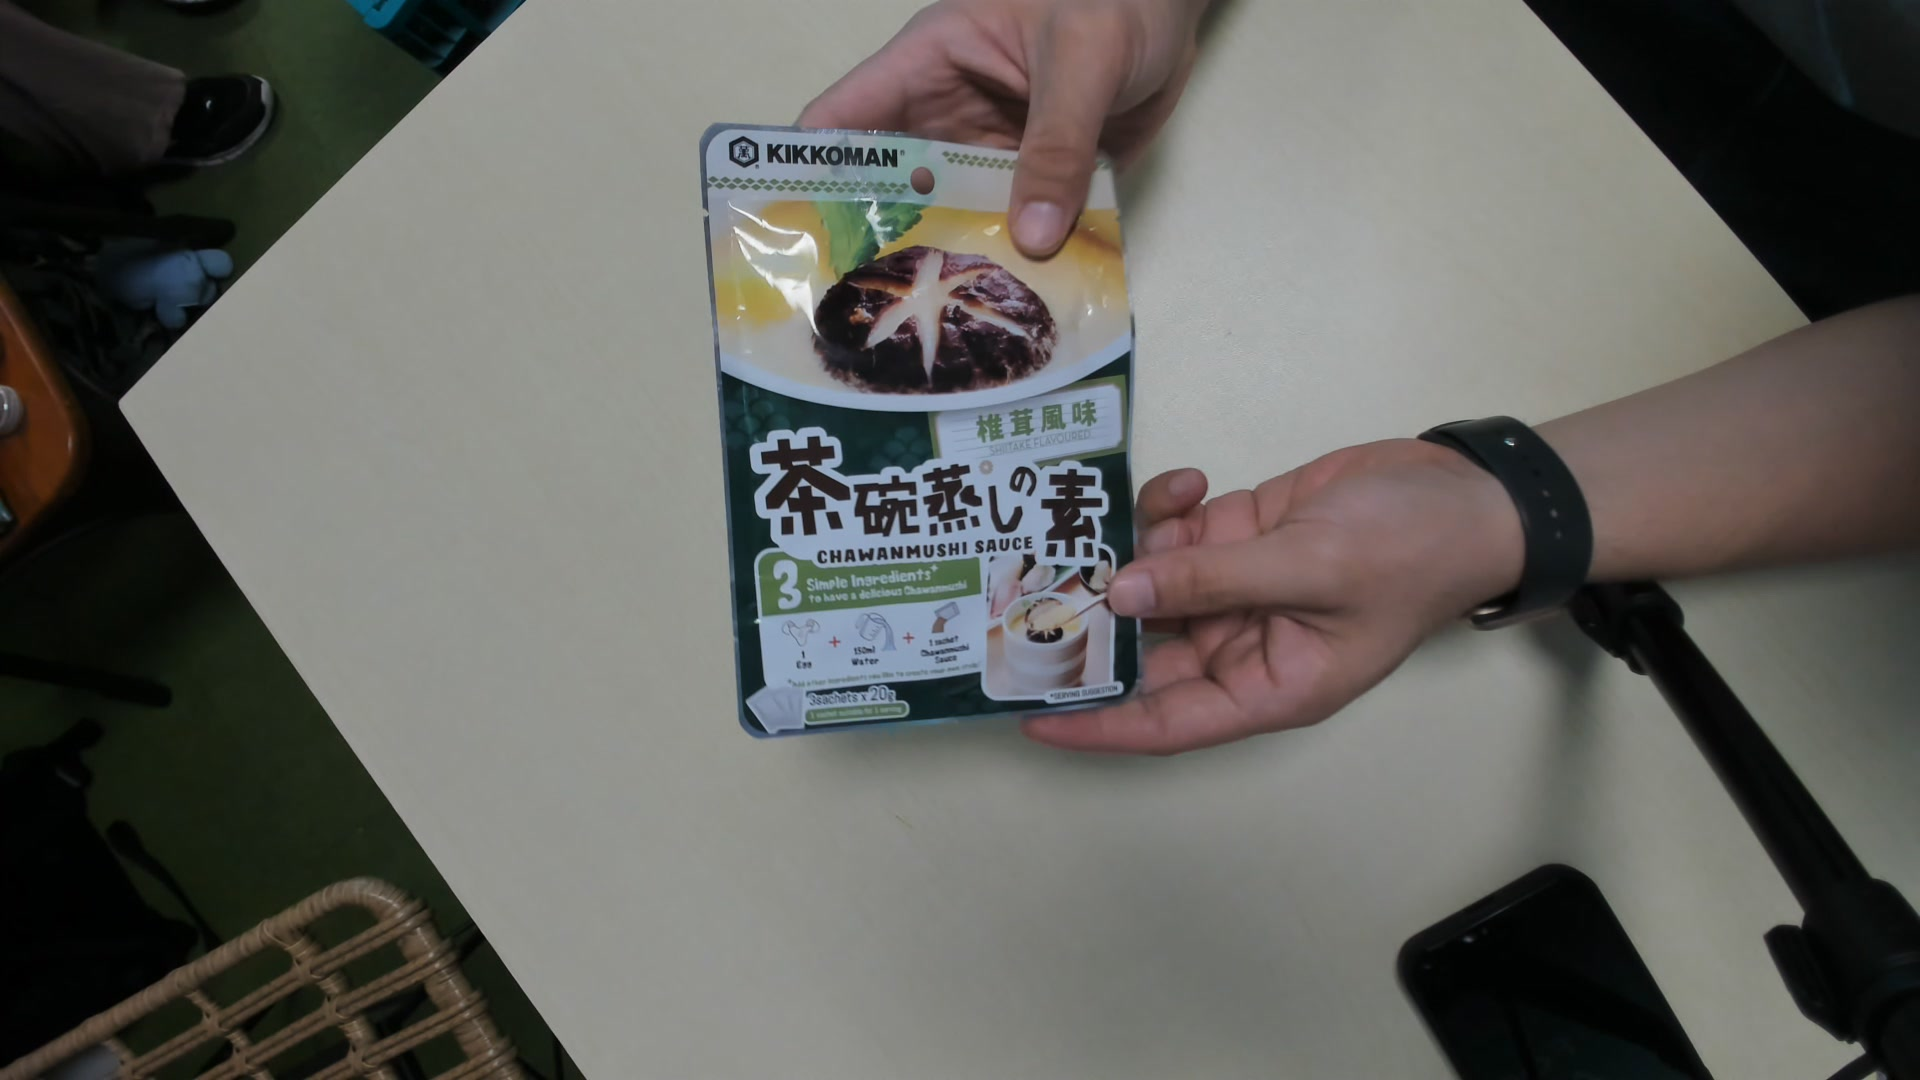OtherSauceDressing_0-99g_NonHalal_NonHealthy: (702, 121, 1142, 737)
